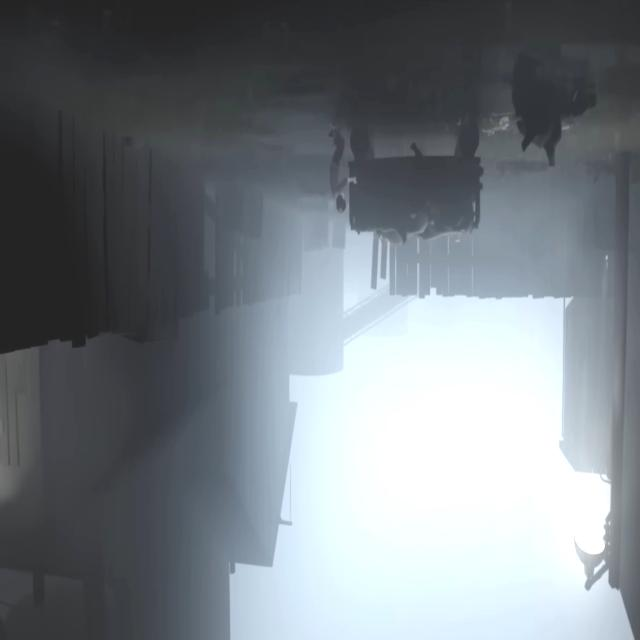boy: (327, 125, 353, 214)
